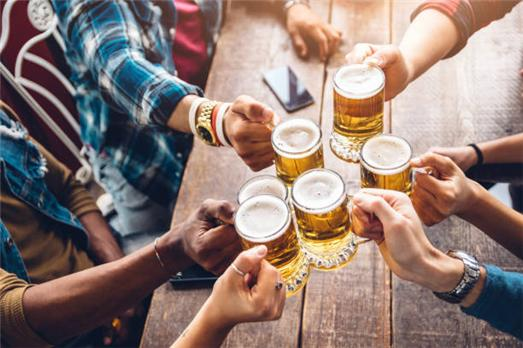alcohol: (236, 197, 305, 297), (293, 168, 357, 268), (329, 60, 387, 162), (357, 135, 416, 217), (271, 117, 327, 187), (239, 176, 301, 219)
